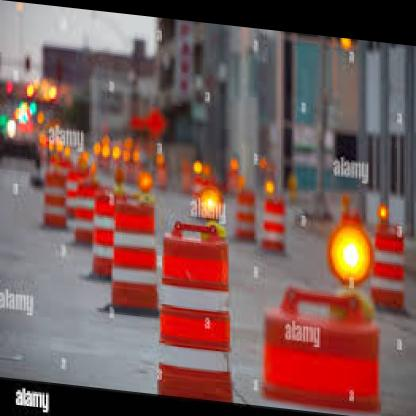obstacle: (254, 278, 384, 413), (156, 224, 235, 398)
